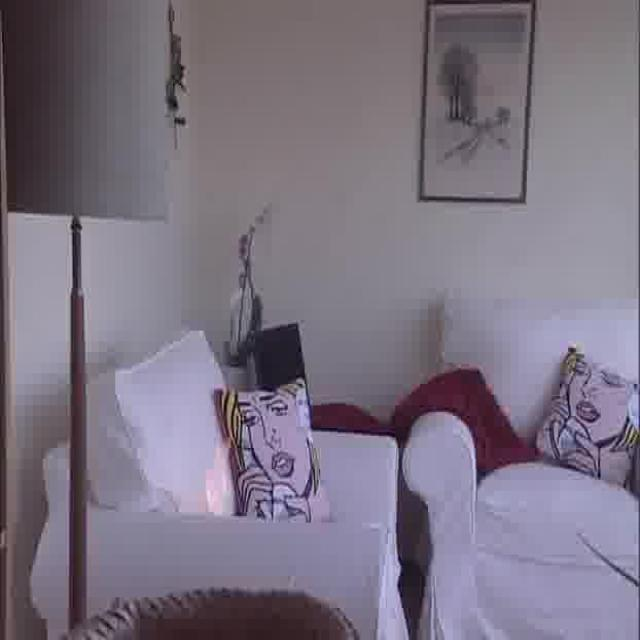fire: (200, 453, 238, 520)
